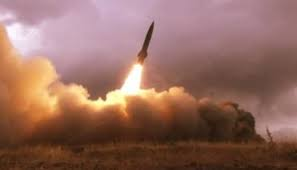ten_lua: (133, 18, 157, 67)
